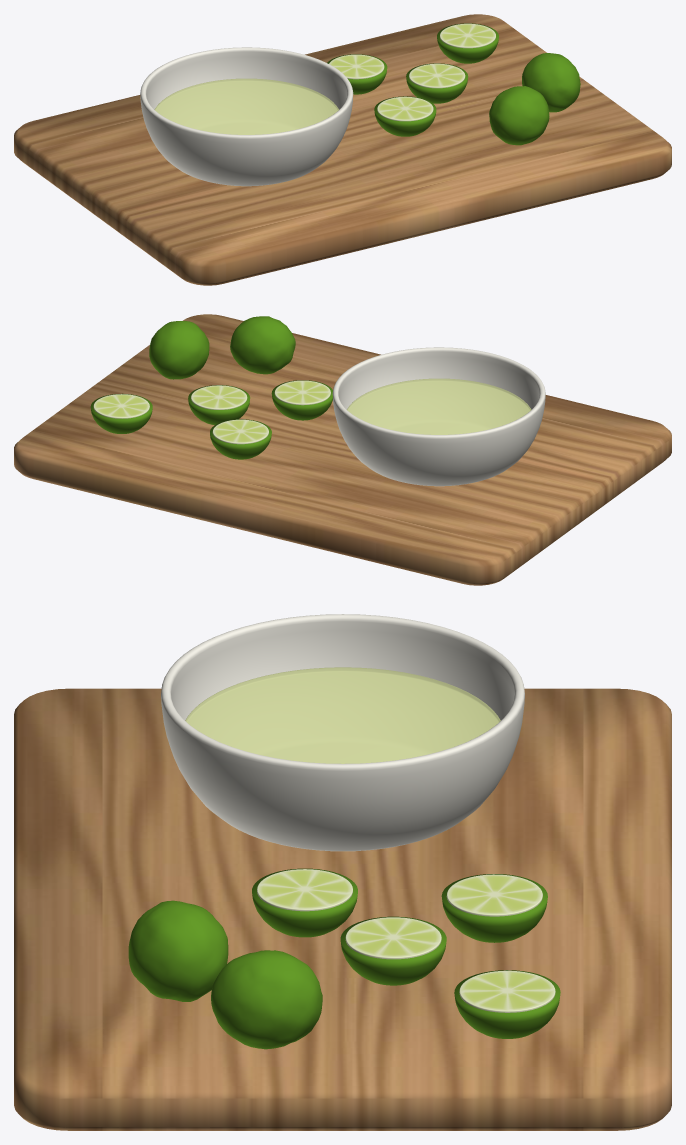
The model's file is paso-3.glb.
3 renders of one model, top to bottom at view 1: azimuth 30°, elevation 25°; view 2: azimuth 150°, elevation 25°; view 3: azimuth 270°, elevation 25°, orthographic. The views are drawn at different scales.
Parts seen in each view (by area): view 1: paso-3-0, paso-3-1, paso-3-2, paso-3-11, paso-3-12, paso-3-6, paso-3-10, paso-3-8, paso-3-4, paso-3-7, paso-3-9, paso-3-5 (+1 smaller); view 2: paso-3-0, paso-3-1, paso-3-2, paso-3-11, paso-3-12, paso-3-4, paso-3-10, paso-3-6, paso-3-8, paso-3-9, paso-3-3, paso-3-7 (+1 smaller); view 3: paso-3-0, paso-3-1, paso-3-2, paso-3-12, paso-3-11, paso-3-6, paso-3-4, paso-3-10, paso-3-8, paso-3-5, paso-3-9, paso-3-3 (+1 smaller).
Boxes of the visible parts, bbox=[...] form: paso-3-0: bbox=[14, 14, 671, 285]; paso-3-1: bbox=[140, 47, 353, 186]; paso-3-2: bbox=[154, 78, 338, 134]; paso-3-11: bbox=[489, 86, 549, 145]; paso-3-12: bbox=[522, 53, 580, 112]; paso-3-6: bbox=[409, 63, 465, 88]; paso-3-10: bbox=[440, 23, 495, 48]; paso-3-8: bbox=[377, 96, 433, 121]; paso-3-4: bbox=[329, 54, 384, 79]; paso-3-7: bbox=[374, 96, 436, 136]; paso-3-9: bbox=[437, 23, 498, 63]; paso-3-5: bbox=[406, 63, 468, 103]; paso-3-0: bbox=[14, 314, 671, 585]; paso-3-1: bbox=[332, 347, 545, 486]; paso-3-2: bbox=[347, 378, 531, 434]; paso-3-11: bbox=[230, 316, 295, 374]; paso-3-12: bbox=[149, 321, 209, 379]; paso-3-4: bbox=[212, 419, 268, 444]; paso-3-10: bbox=[93, 394, 149, 418]; paso-3-6: bbox=[191, 385, 247, 409]; paso-3-8: bbox=[274, 380, 330, 405]; paso-3-9: bbox=[90, 393, 152, 433]; paso-3-3: bbox=[210, 419, 271, 459]; paso-3-7: bbox=[271, 380, 332, 420]; paso-3-0: bbox=[14, 688, 671, 1130]; paso-3-1: bbox=[161, 614, 524, 851]; paso-3-2: bbox=[185, 667, 500, 763]; paso-3-12: bbox=[211, 950, 322, 1049]; paso-3-11: bbox=[128, 900, 228, 1001]; paso-3-6: bbox=[345, 917, 441, 959]; paso-3-4: bbox=[446, 874, 542, 916]; paso-3-10: bbox=[459, 970, 555, 1012]; paso-3-8: bbox=[257, 869, 352, 911]; paso-3-5: bbox=[340, 916, 446, 985]; paso-3-9: bbox=[454, 970, 560, 1038]; paso-3-3: bbox=[441, 874, 547, 942].
Size of the model in its own units: 0.38 by 0.07 by 0.26.
5 materials, 1 textured.
